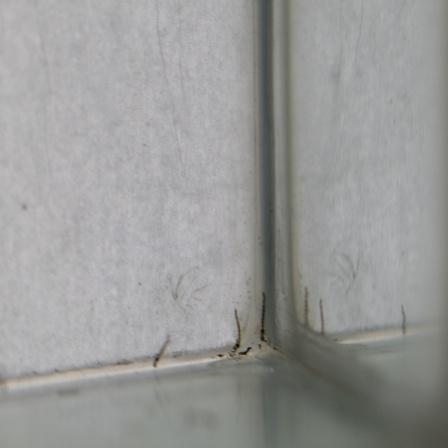Jentik-Nyamuk: (231, 307, 246, 354), (259, 292, 271, 345)
